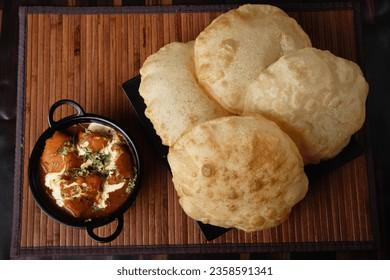puri: (139, 3, 378, 236)
